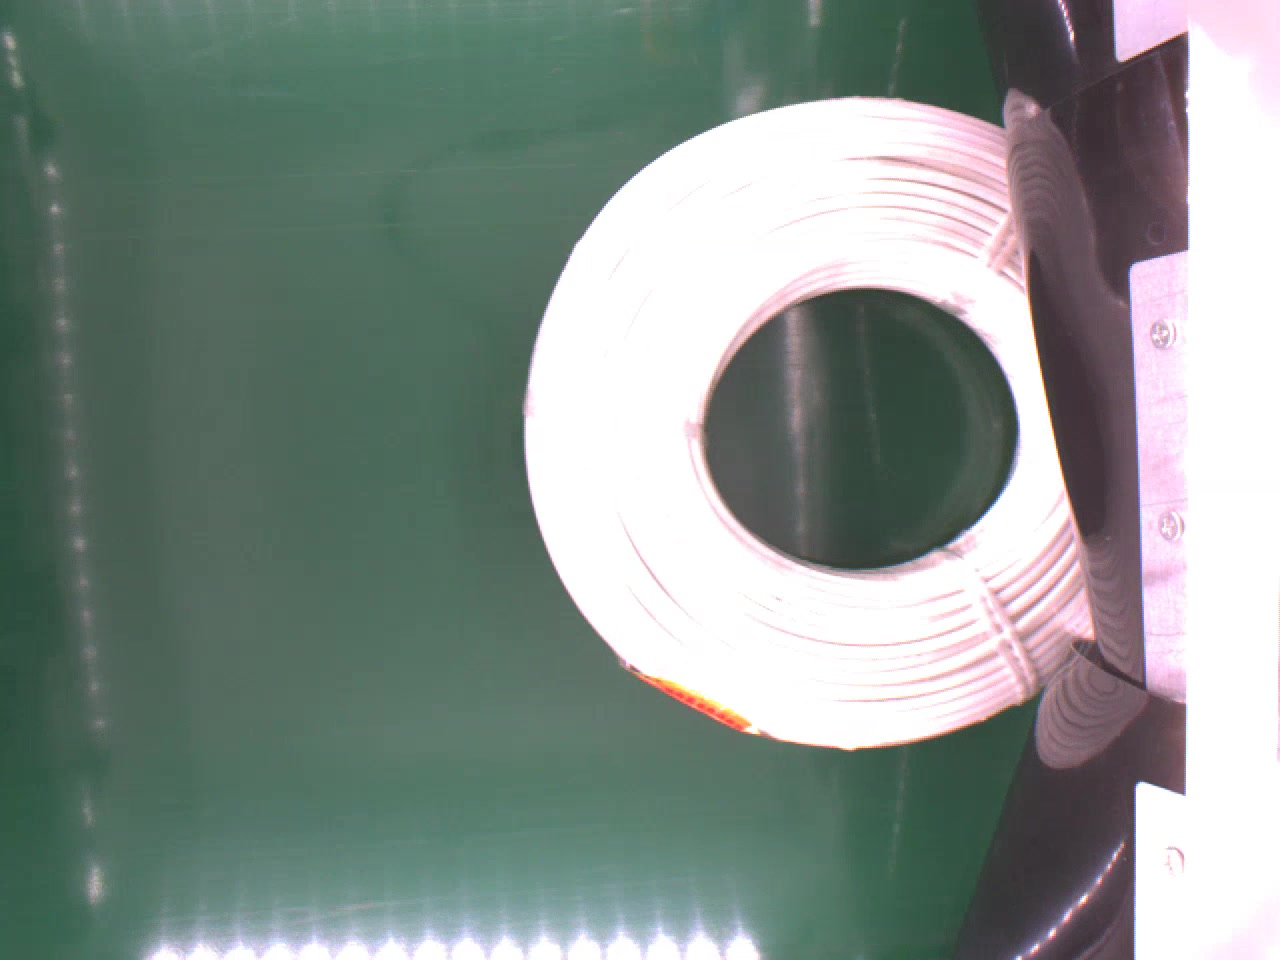white: (518, 91, 1085, 754)
